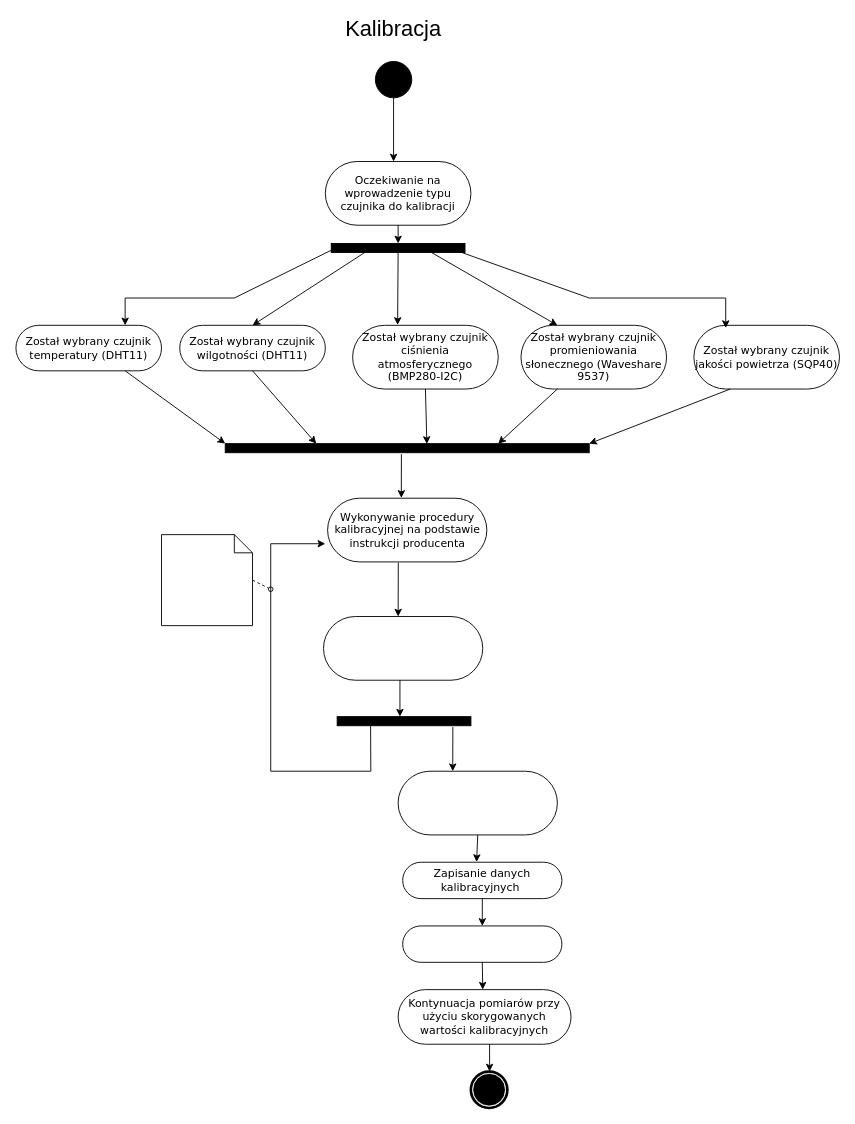
The diagram is 855 pixels wide and 1124 high, and some of its shapes have lost their labels. Each missing label, with the centre of its shape:
"Jeśli dane z czujników nie spełniają wymogów ponawiamy kalibrację" goes at point 207,580.
"Porównanie odczytów czujnika z wartościami referencyjnymi" goes at point 403,648.
"Potwierdzenie zakończenia kalibracji" goes at point 482,943.
"Wartości po kalibracji spełniają warunki wartości referencyjnych" goes at point 477,802.
